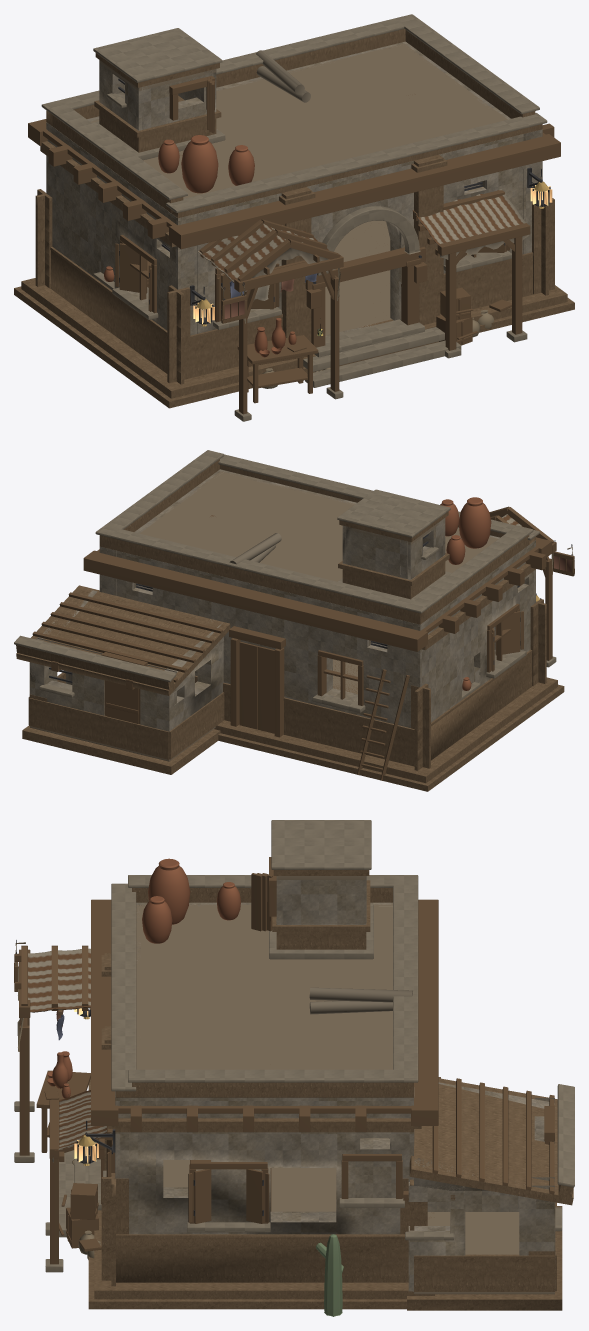
The model's file is market-hall.glb.
3 views of the same model, one above another, from view 1: azimuth 30°, elevation 25°; view 2: azimuth 150°, elevation 25°; view 3: azimuth 270°, elevation 25° (orthographic). The views are drawn at different scales.
Visible parts, largest first — view 1: XO_XO_Mudbrick, XO_XO_Wood, XO_XO_Earth_Floor, XO_XO_Stone_Limestone, XO_XO_Plaster, XO_XO_Fabric_Awning_Terracotta, XO_XO_Terracotta, XO_XO_Fabric_Canvas, XO_XO_WroughtIron, XO_XO_Rope, XO_XO_LampGlass; view 2: XO_XO_Mudbrick, XO_XO_Plaster, XO_XO_Wood, XO_XO_Stone_Limestone, XO_XO_Earth_Floor, XO_XO_Terracotta, XO_XO_Fabric_Canvas; view 3: XO_XO_Mudbrick, XO_XO_Earth_Floor, XO_XO_Plaster, XO_XO_Wood, XO_XO_Stone_Limestone, XO_XO_Fabric_Awning_Terracotta, XO_XO_Terracotta, XO_XO_Fabric_Canvas, XO_XO_Foliage, XO_XO_WroughtIron.
Boxes of the visible parts, left/top/right/bottom form: XO_XO_Mudbrick: left=14, top=29, right=574, bottom=408; XO_XO_Wood: left=28, top=76, right=560, bottom=414; XO_XO_Earth_Floor: left=91, top=43, right=507, bottom=335; XO_XO_Stone_Limestone: left=41, top=14, right=547, bottom=421; XO_XO_Plaster: left=46, top=41, right=542, bottom=337; XO_XO_Fabric_Awning_Terracotta: left=198, top=189, right=525, bottom=282; XO_XO_Terracotta: left=104, top=135, right=296, bottom=357; XO_XO_Fabric_Canvas: left=245, top=50, right=529, bottom=291; XO_XO_WroughtIron: left=118, top=78, right=550, bottom=324; XO_XO_Rope: left=220, top=268, right=493, bottom=388; XO_XO_LampGlass: left=193, top=185, right=552, bottom=323; XO_XO_Mudbrick: left=16, top=459, right=564, bottom=791; XO_XO_Plaster: left=29, top=469, right=535, bottom=731; XO_XO_Wood: left=32, top=506, right=574, bottom=780; XO_XO_Stone_Limestone: left=14, top=450, right=556, bottom=712; XO_XO_Earth_Floor: left=30, top=471, right=498, bottom=761; XO_XO_Terracotta: left=440, top=497, right=491, bottom=690; XO_XO_Fabric_Canvas: left=229, top=516, right=501, bottom=564; XO_XO_Mudbrick: left=88, top=870, right=573, bottom=1310; XO_XO_Earth_Floor: left=136, top=876, right=554, bottom=1294; XO_XO_Plaster: left=115, top=876, right=555, bottom=1291; XO_XO_Wood: left=14, top=857, right=554, bottom=1264; XO_XO_Stone_Limestone: left=14, top=820, right=574, bottom=1272; XO_XO_Fabric_Awning_Terracotta: left=28, top=948, right=112, bottom=1150; XO_XO_Terracotta: left=47, top=858, right=240, bottom=1098; XO_XO_Fabric_Canvas: left=23, top=987, right=412, bottom=1162; XO_XO_Foliage: left=316, top=1234, right=343, bottom=1316; XO_XO_WroughtIron: left=16, top=940, right=263, bottom=1216.
Bounding box in the file's own units: 9.19 × 5.4 × 9.39.
20 materials, 8 textured.
